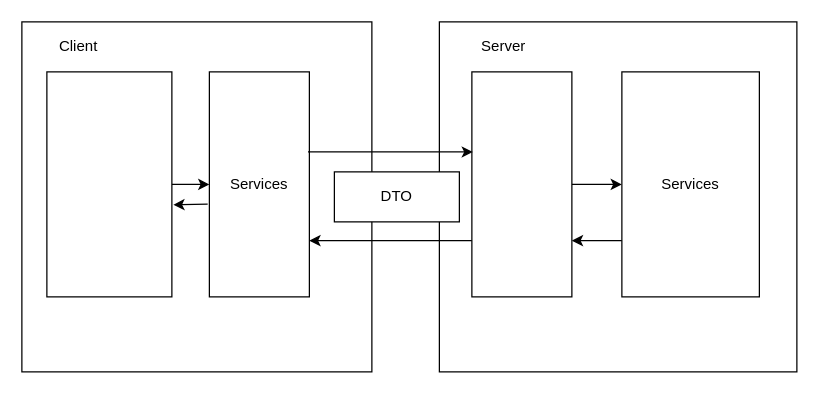
This 819x394 diagram has some shape labels left out. The shapes that lost their labels are listed below. From the top down, each one's centre as x and y in pixels, then its label:
the point at 109,184: Pages
the point at 521,184: Controllers
